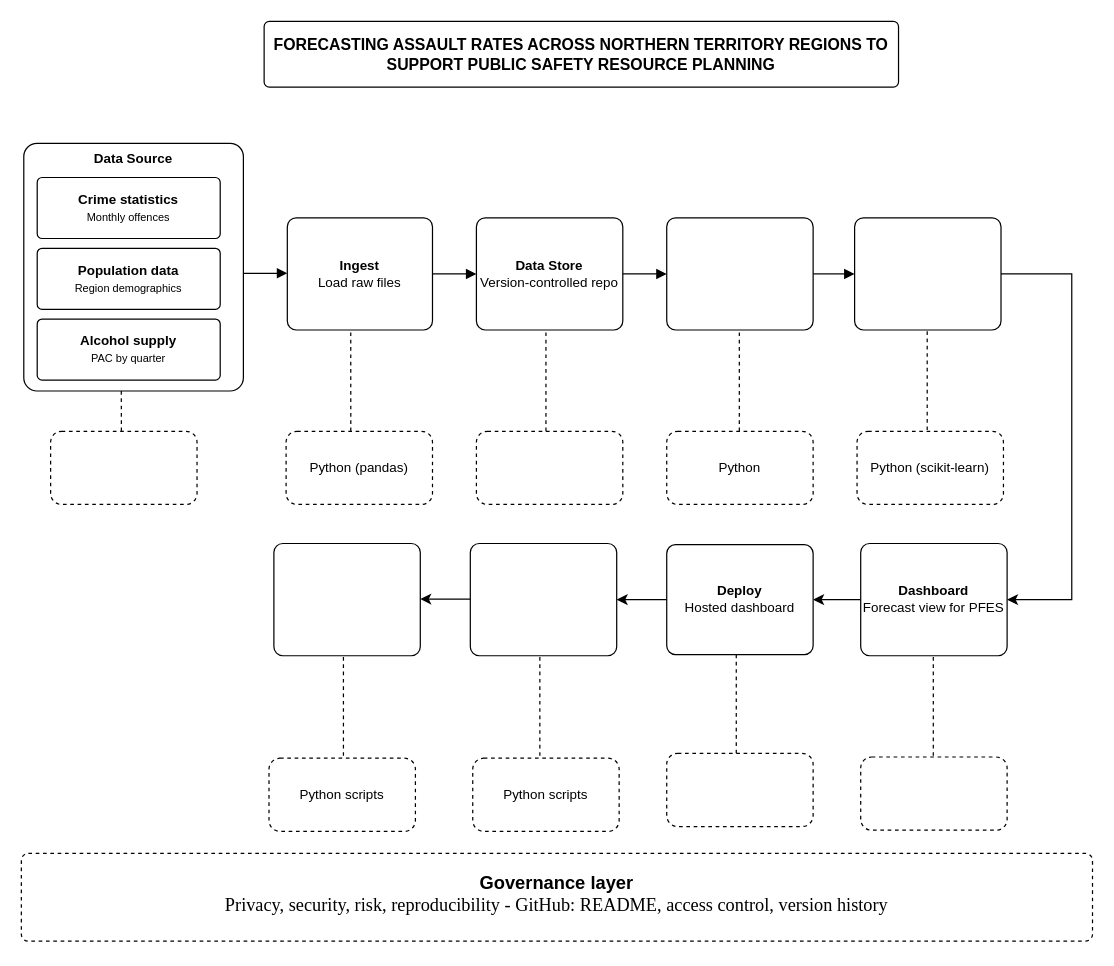
The diagram is 1114 pixels wide and 966 high, and some of its shapes have lost their labels. Here are the shapes that lost their labels. From the top down, the centre of each, then its label:
At point 739,273: "Data Processing Clean, merge, features".
At point 927,273: "Analytics / ML Ridge/ Lasso, lag features".
At point 123,467: "NT Open Data Portal".
At point 549,467: "GitHub repo (data/ folder)".
At point 346,599: "Incremental learning".
At point 543,599: "Monitor Drift & retrain checks".
At point 739,789: "GitHub".
At point 933,793: "Python (Streamlit)".
